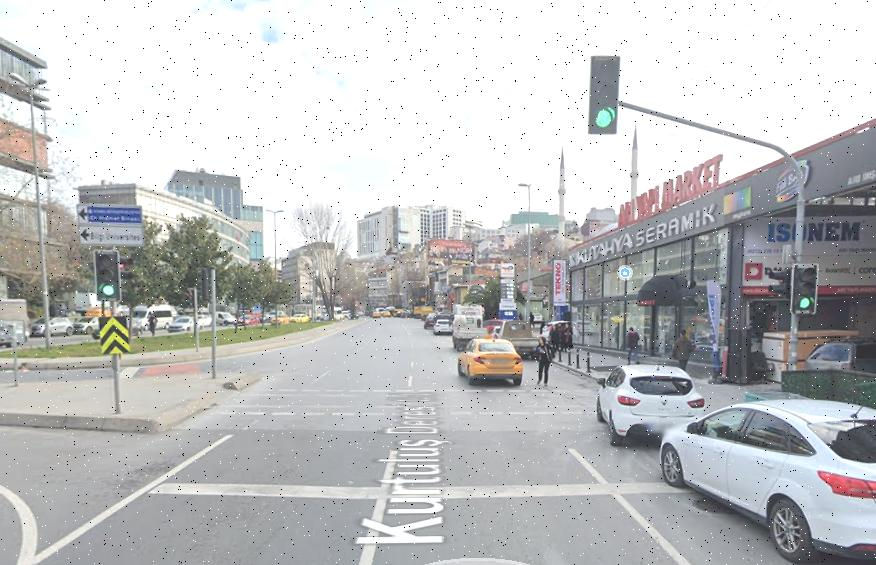greenlight: (590, 55, 618, 134), (94, 251, 122, 299)
